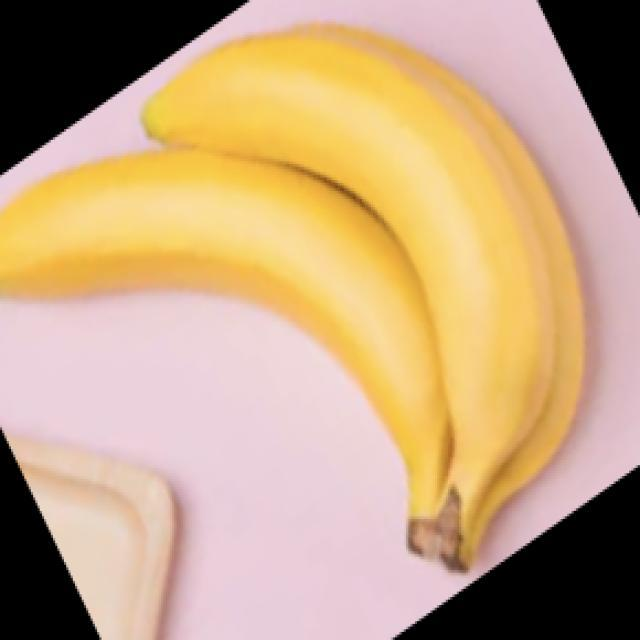Banana: (0, 21, 586, 573)
